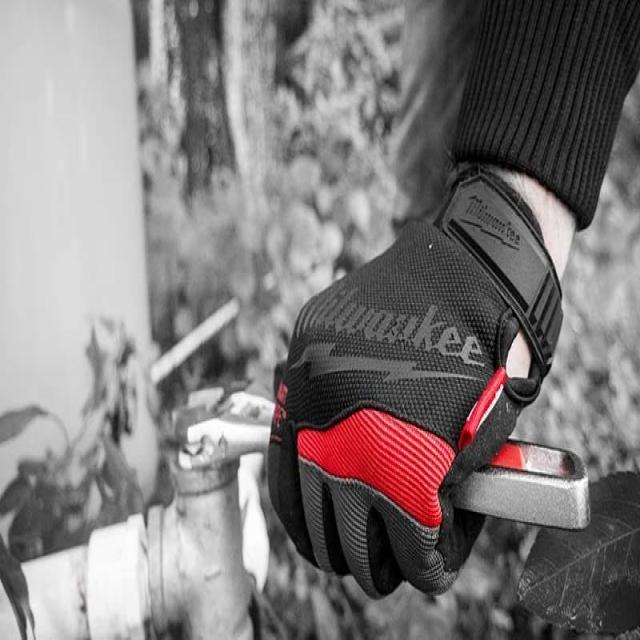gloves: (262, 163, 565, 594)
